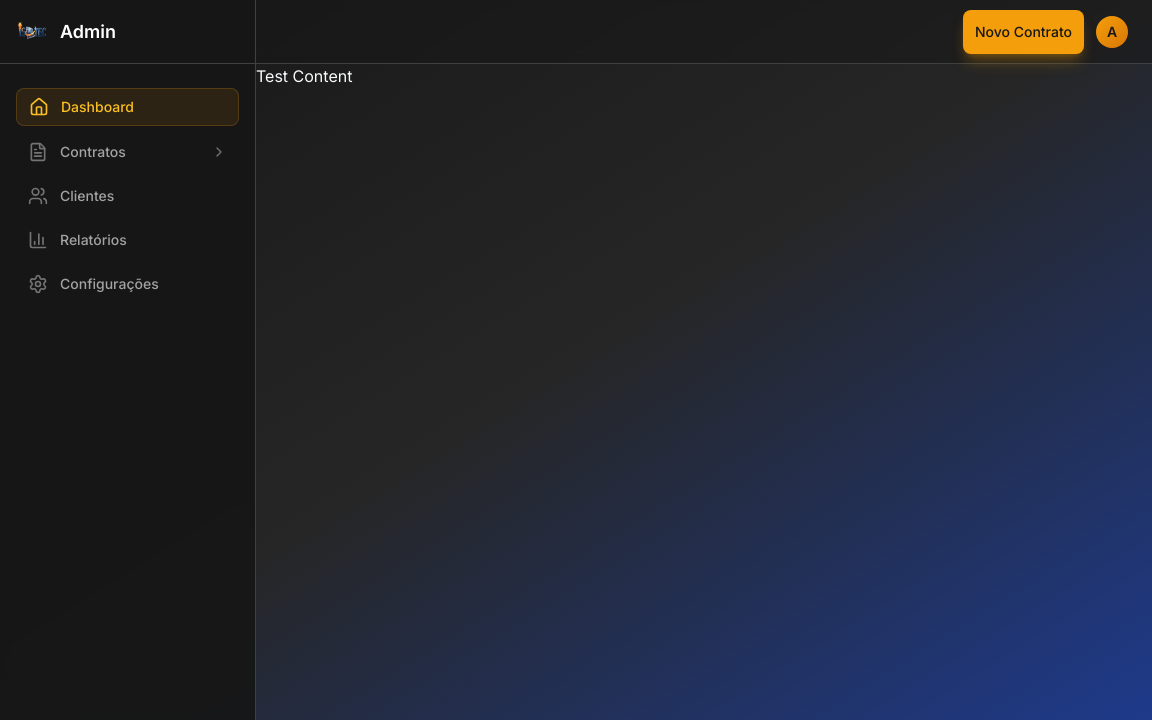
it: AdminLayout › supports expandable navigation items
// Click to expand (preventDefault should be called, so it won't navigate)
Click the button "Contratos": {"x": 128, "y": 152} [28, 142, 227, 162]
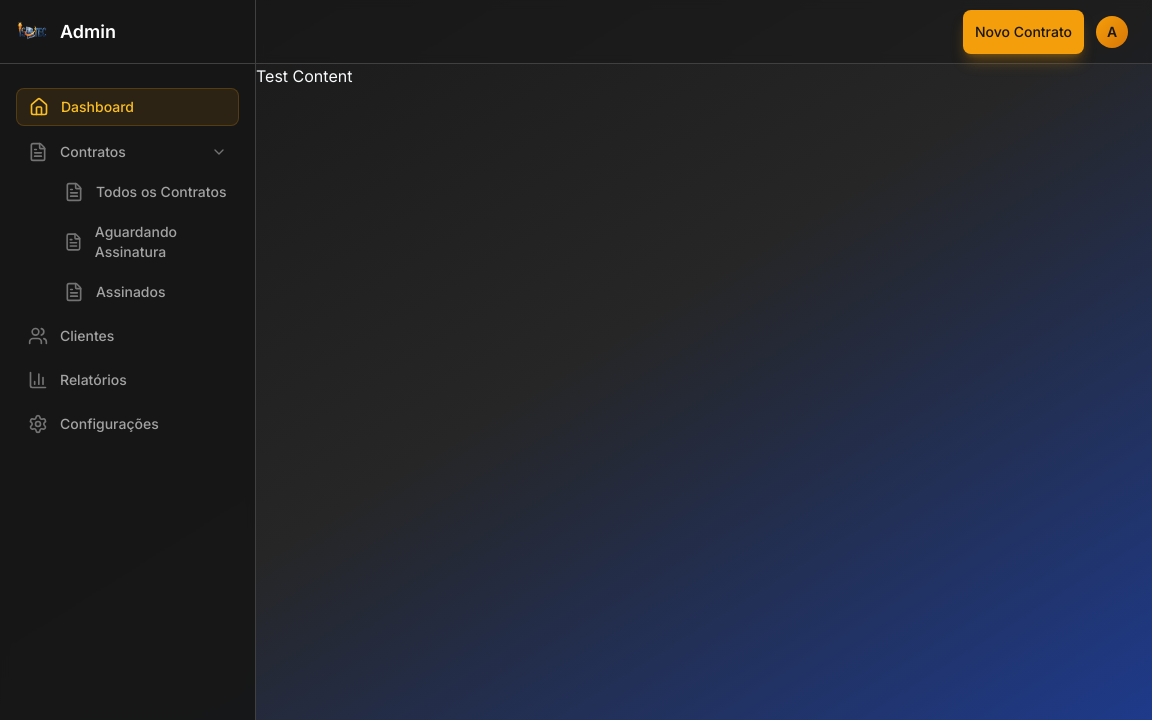
Expected: the text "Todos os Contratos" is shown, [96, 182, 226, 202]
Expected: the text "Aguardando Assinatura" is shown, [95, 223, 177, 260]
Expected: the text "Assinados" is shown, [96, 282, 166, 302]
